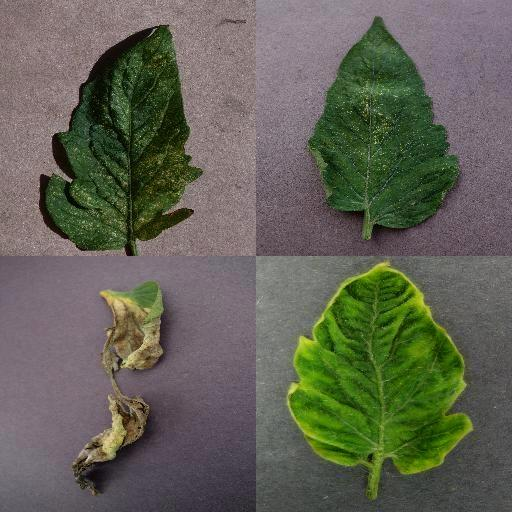Late Blight: (73, 280, 169, 494)
Spider Mites: (45, 25, 203, 251), (310, 14, 460, 228)
Yellow Leaf Curl Virus: (289, 261, 474, 473)
